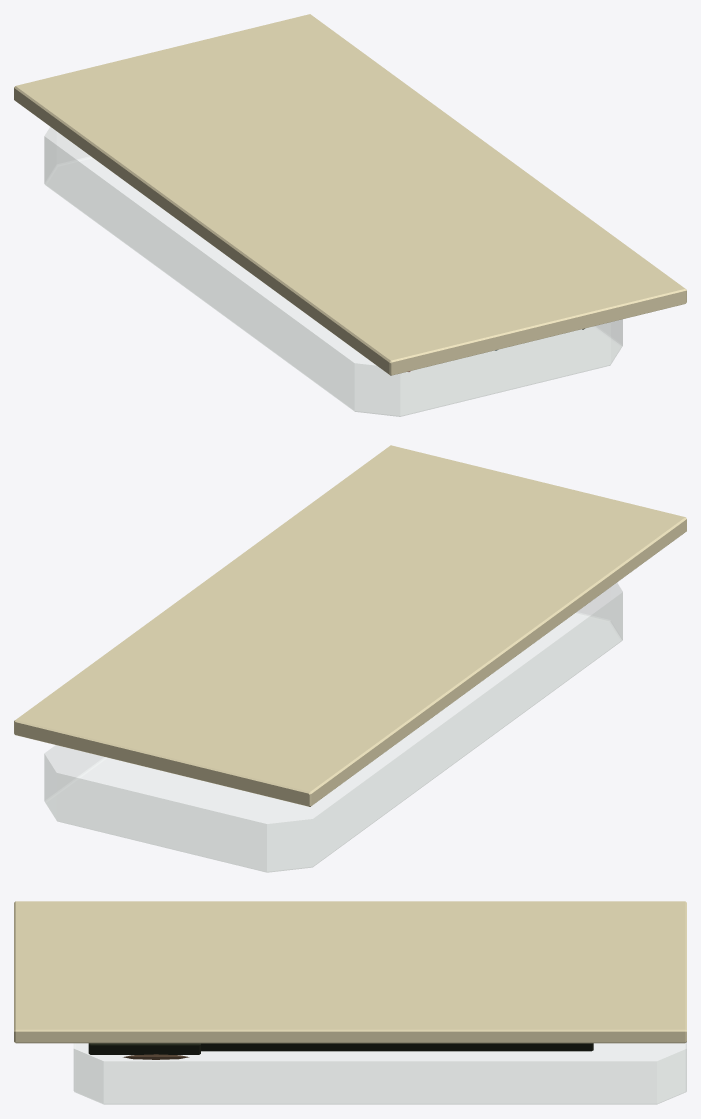
Rendered from pens.glb.
3 renders of one model, top to bottom at view 1: azimuth 30°, elevation 25°; view 2: azimuth 150°, elevation 25°; view 3: azimuth 270°, elevation 25°, orthographic. The views are drawn at different scales.
Parts seen in each view (by area): view 1: pens; view 2: pens; view 3: pens.
Part boxes in pixels (x1,y1,x2,y2): pens: (14, 14, 686, 416); pens: (14, 445, 686, 872); pens: (14, 901, 686, 1104).
Size of the model in its own units: 0.082 by 0.024 by 0.18.
